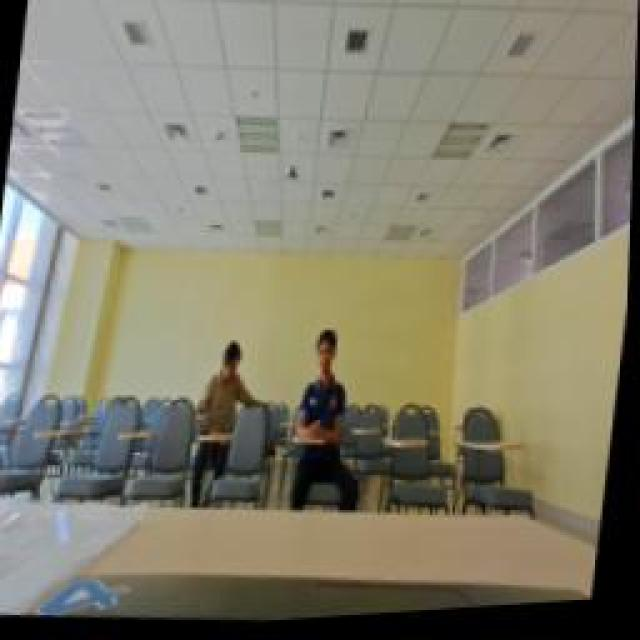study: (292, 325, 358, 447), (195, 332, 250, 442)
